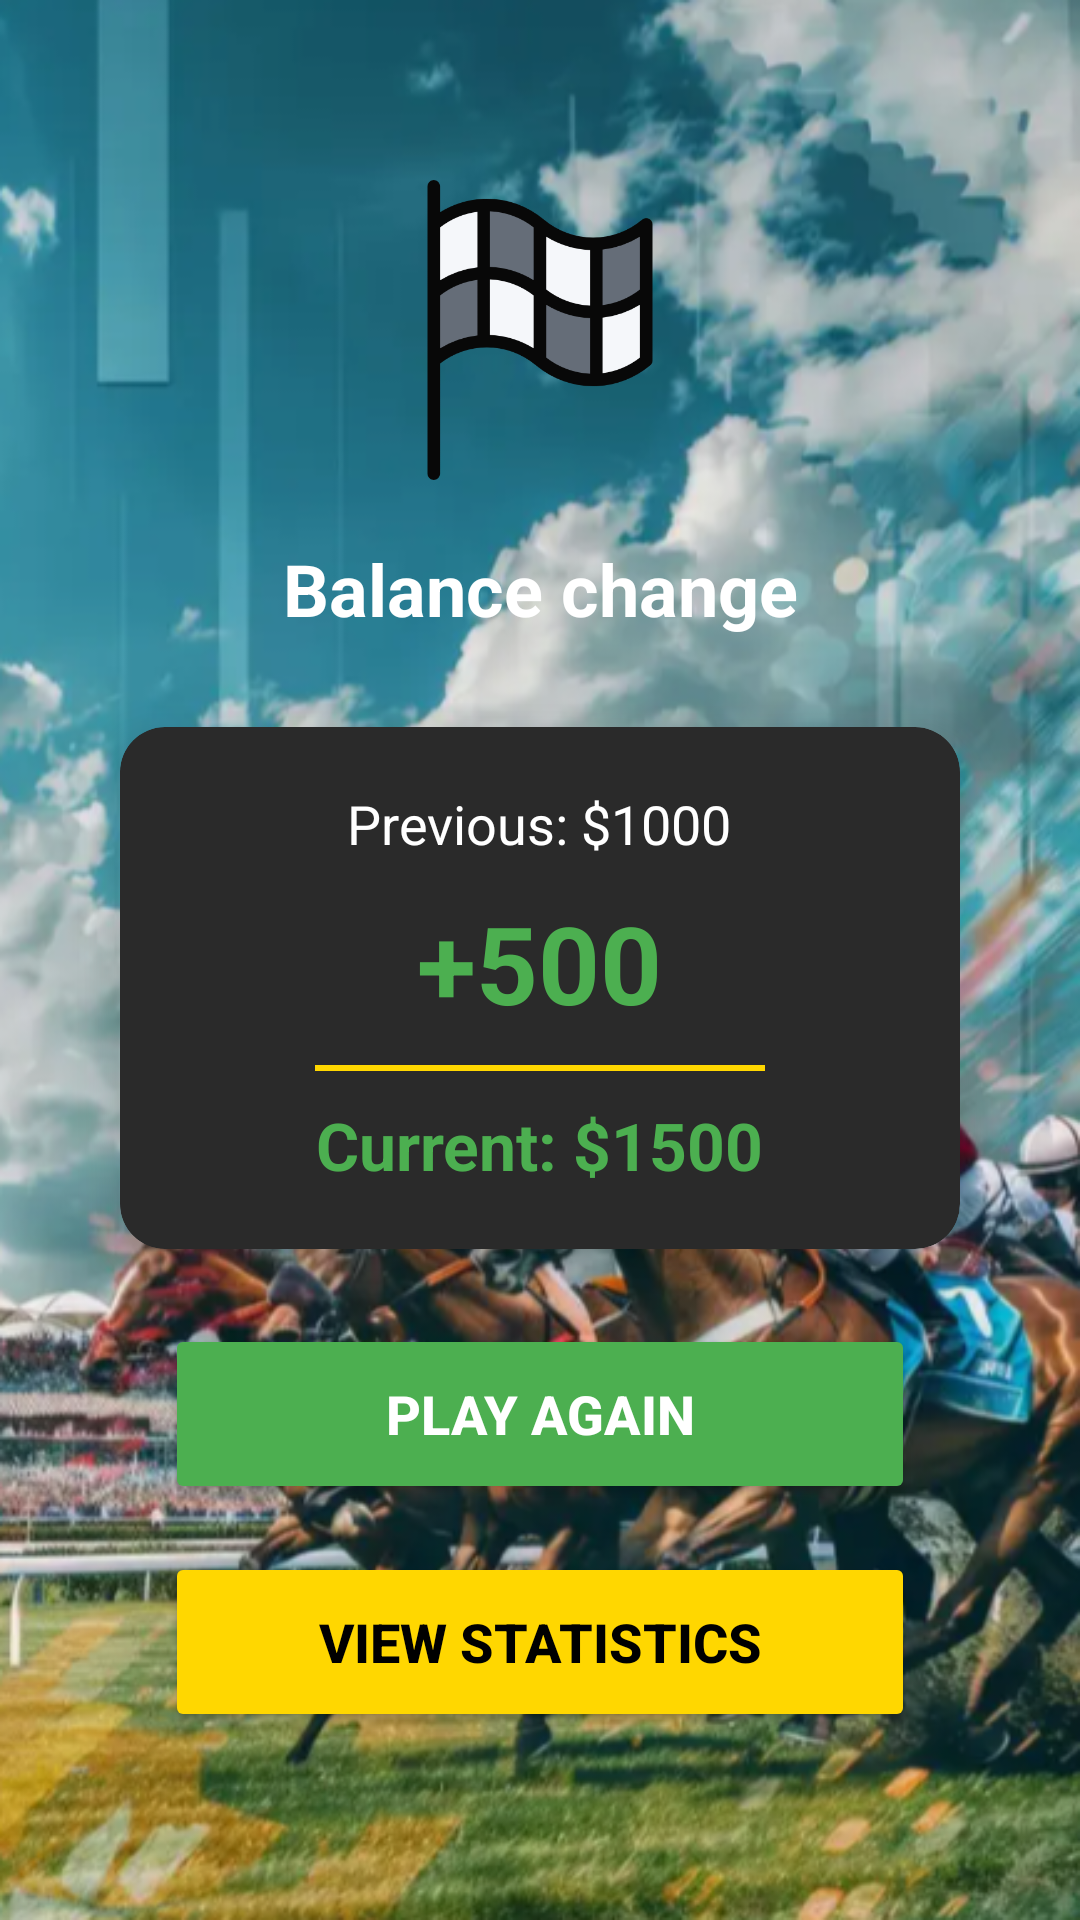

Screen size 1080x1920. Icon name, then its box in pixels as (x1, y1, x2, y2):
Result Icon: (427, 180, 690, 480)
